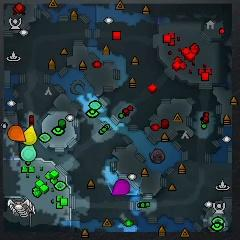p2: (21, 143, 37, 161)
p3: (111, 179, 130, 195)
p4: (22, 124, 37, 145)
p5: (8, 125, 26, 142)
